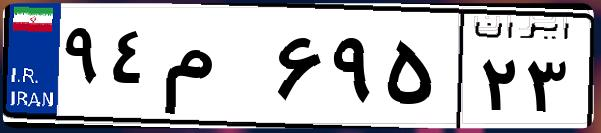2: (475, 38, 525, 113)
3: (525, 38, 570, 115)
4: (110, 28, 158, 98)
5: (385, 28, 445, 110)
6: (270, 28, 330, 110)
9: (330, 28, 385, 110), (57, 26, 110, 100)
م: (158, 20, 270, 120)
